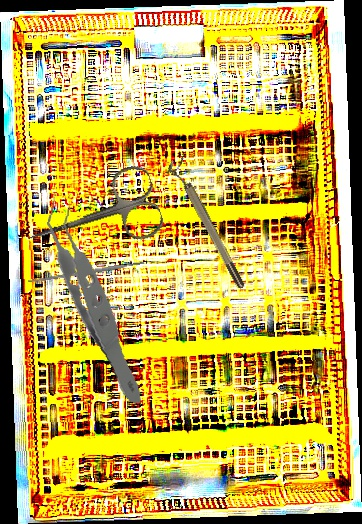Fixation Ring: (165, 155, 248, 294)
Iris Scissors: (17, 162, 167, 272)
Scalpel Handle: (27, 260, 145, 285)
Tissue Forceps: (24, 191, 170, 404)
